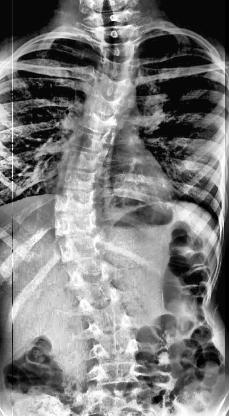Vertebrae: (54, 214, 106, 242), (57, 239, 110, 266), (62, 262, 116, 286), (63, 131, 115, 155), (50, 150, 106, 172), (49, 170, 101, 192), (88, 342, 142, 362), (89, 318, 133, 342), (92, 74, 136, 98), (52, 192, 104, 212), (96, 57, 139, 81), (83, 297, 127, 319), (77, 114, 121, 136), (87, 96, 127, 120), (71, 283, 115, 304), (100, 42, 138, 62)
